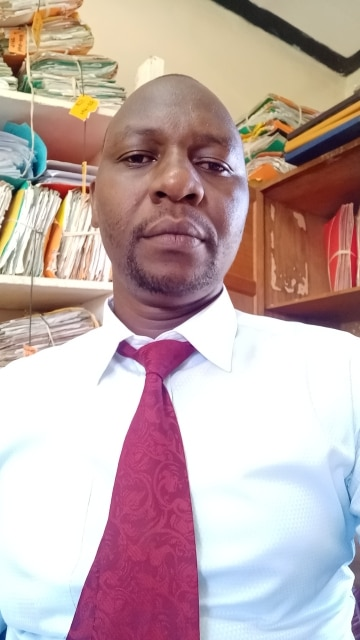shirts: (18, 307, 359, 640)
